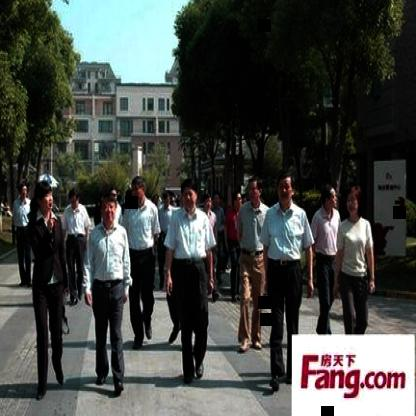head: (342, 176, 364, 222), (34, 172, 57, 216), (98, 186, 122, 228), (274, 169, 294, 207), (179, 176, 200, 210), (244, 175, 264, 205), (320, 183, 338, 212), (130, 176, 147, 201), (66, 186, 80, 209), (232, 188, 244, 210), (16, 182, 28, 203)
